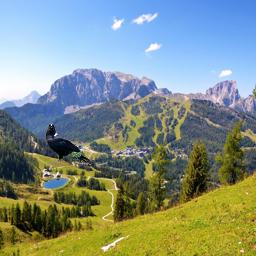Crow: (45, 123, 91, 165)
